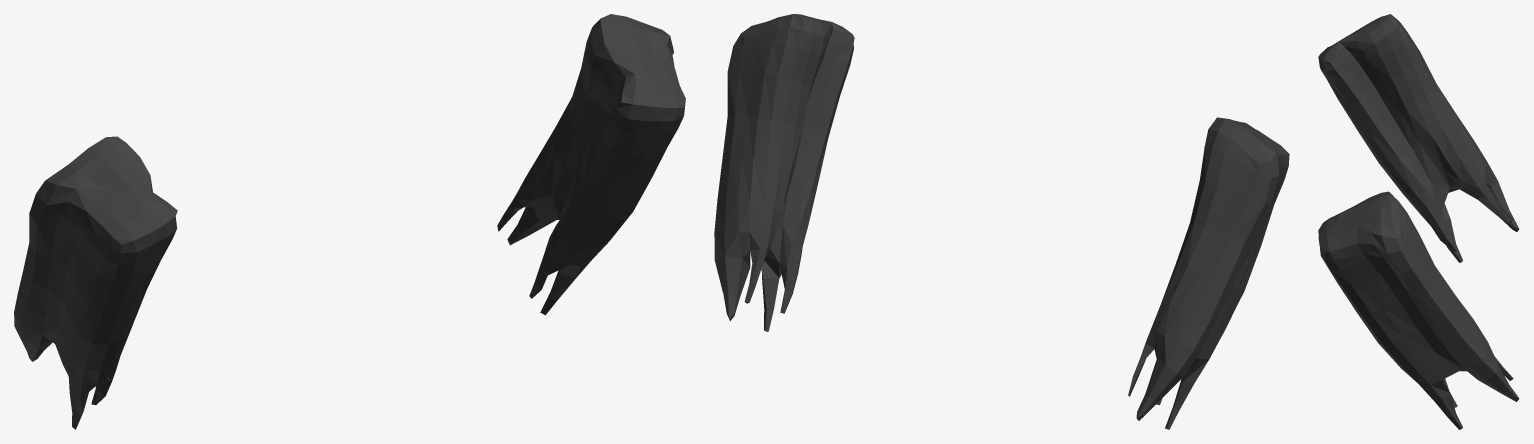
File: L_mand_P3_LO.glb
The picture shows the model from 3 angles, left to right: view 1: azimuth 30°, elevation 25°; view 2: azimuth 150°, elevation 25°; view 3: azimuth 270°, elevation 25°; orthographic projection. The views are drawn at different scales.
Parts seen in each view (by area): view 1: L_mand_P3_LO; view 2: L_mand_P3_LO; view 3: L_mand_P3_LO.
Part boxes in pixels (box(x1,y1,x2,y2)): L_mand_P3_LO: box(14, 14, 685, 429); L_mand_P3_LO: box(714, 14, 1289, 429); L_mand_P3_LO: box(1318, 14, 1519, 429).
Bounding box in the file's own units: 0.00102 × 0.000512 × 0.000386.
1 material, 1 textured.
